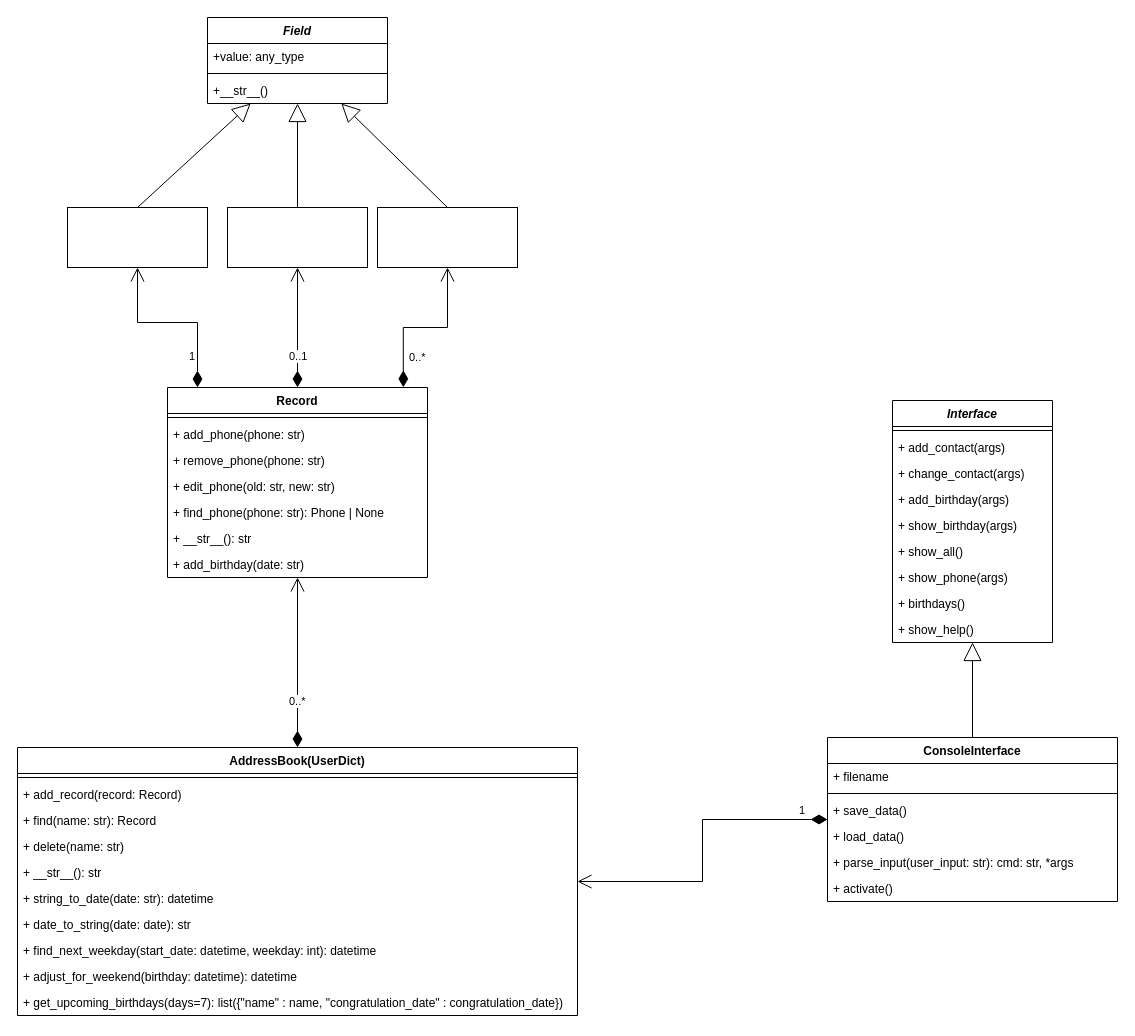
Some shapes in this 1135 by 1036 pixel diagram are drawn without their labels. Here are the shapes that lost their labels. From the top down, the centre of each, then its label:
At point 137,237: "Name".
At point 297,237: "Birthday".
At point 447,237: "Phone".
